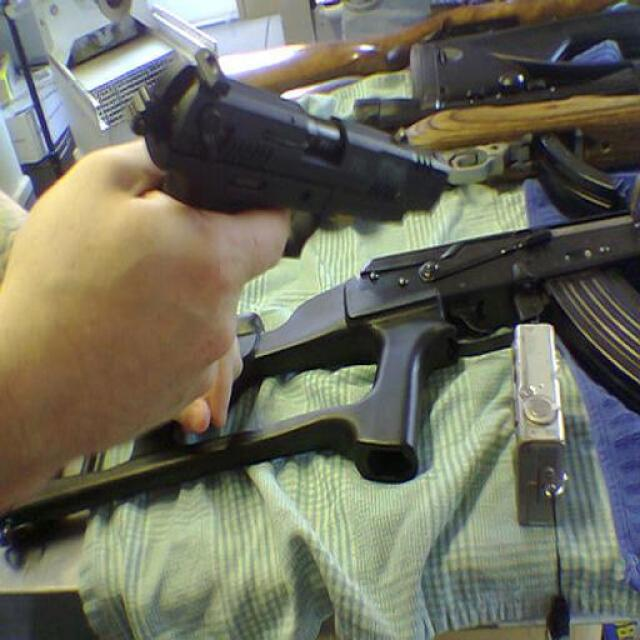pistol: (116, 48, 450, 253)
